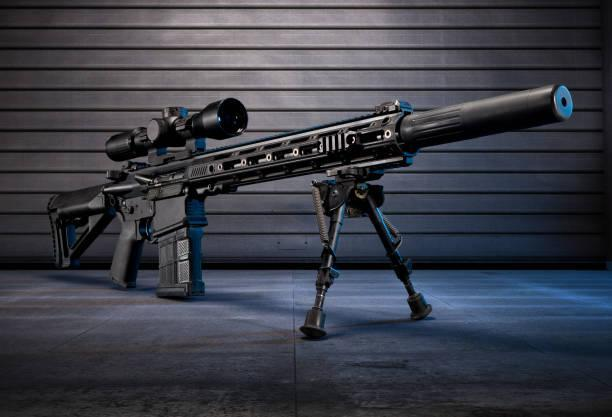larga: (46, 80, 574, 340)
